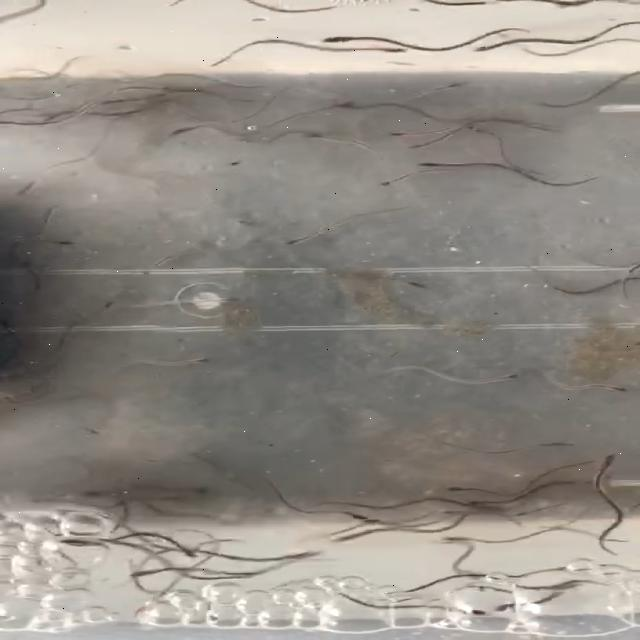active_glass_eel: (451, 606, 488, 622), (128, 566, 170, 580), (318, 32, 364, 44), (594, 451, 624, 469), (434, 483, 470, 498), (434, 505, 472, 518), (408, 139, 442, 153), (458, 122, 492, 136), (181, 354, 215, 368), (212, 292, 246, 306), (344, 508, 378, 522), (436, 80, 474, 92), (329, 533, 364, 546), (37, 108, 69, 122), (394, 278, 426, 292), (466, 493, 498, 507), (377, 175, 408, 189), (382, 126, 418, 138), (173, 546, 200, 562), (329, 100, 364, 112), (53, 78, 83, 92), (446, 534, 487, 544), (228, 96, 262, 108), (296, 547, 332, 558), (85, 302, 117, 314), (485, 372, 519, 383), (412, 158, 443, 170), (539, 440, 576, 450), (278, 236, 314, 246), (25, 276, 47, 292), (242, 82, 276, 92), (383, 43, 413, 54), (164, 126, 200, 135), (598, 381, 630, 391), (295, 133, 334, 141), (223, 155, 245, 169), (61, 540, 97, 548), (151, 255, 173, 268), (508, 508, 536, 518), (48, 238, 82, 246), (472, 42, 499, 52), (359, 518, 386, 528)
